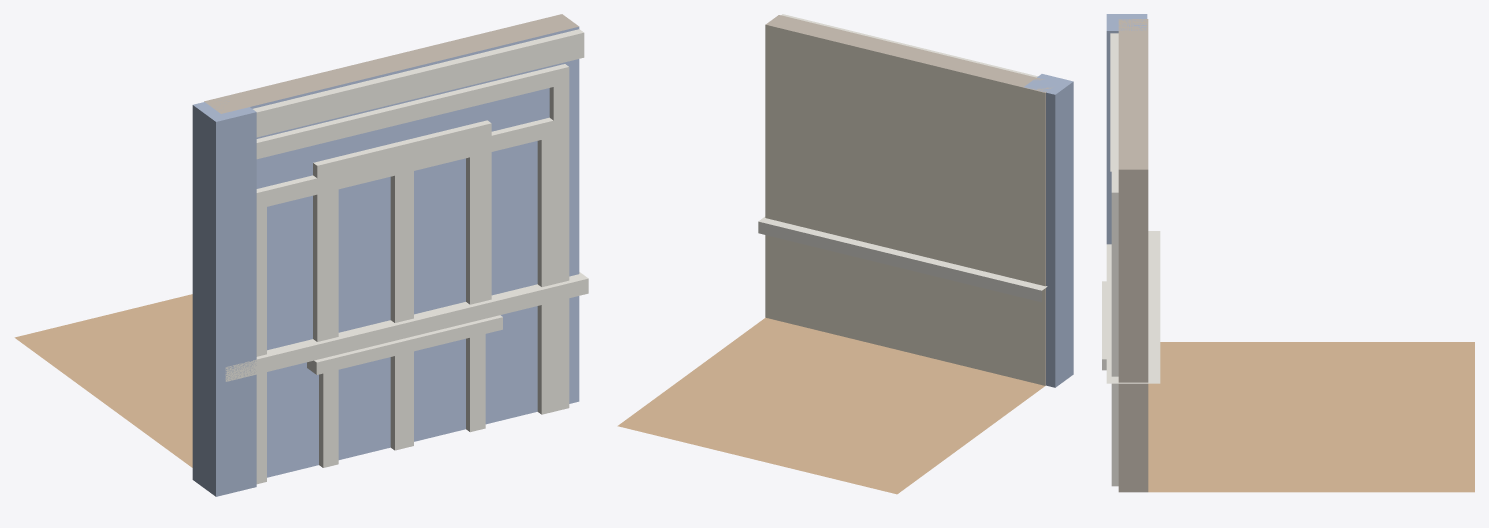
File: toon_city_kit_twins.glb
The picture shows the model from 3 angles, left to right: view 1: azimuth 30°, elevation 25°; view 2: azimuth 150°, elevation 25°; view 3: azimuth 270°, elevation 25°; orthographic projection. The views are drawn at different scales.
Visible parts, largest first — view 1: bluecrete_wallB_solid.001, bluecrete_wallB_window.001, bluecrete_corner.001, bluecrete_wallB_door_L.001, bluecrete_floor.001, bluecrete_wallB_door_R.001, bluecrete_wall_window.001, bluecrete_wallB_wide.001, bluecrete_wallB_door_C.001, bluecrete_wall_solid.001, bluecrete_wall_parapet.001, bluecrete_corner_parapet.001 (+1 smaller); view 2: bluecrete_wallB_solid.001, bluecrete_floor.001, bluecrete_wallB_window.001, bluecrete_wallB_door_R.001, bluecrete_wallB_door_L.001, bluecrete_wall_solid.001, bluecrete_corner.001, bluecrete_wall_window.001, bluecrete_wallB_door_C.001, bluecrete_wall_parapet.001, bluecrete_wallB_wide.001, bluecrete_wall_door_C.001 (+2 smaller); view 3: bluecrete_floor.001, bluecrete_wallB_solid.001, bluecrete_wallB_window.001, bluecrete_wallB_door_R.001, bluecrete_wallB_door_L.001, bluecrete_wallB_wide.001, bluecrete_wall_parapet.001, bluecrete_corner.001, bluecrete_wallB_door_C.001.
Boxes of the visible parts, bbox=[...] form: bluecrete_wallB_solid.001: bbox=[205, 14, 584, 477]; bluecrete_wallB_window.001: bbox=[204, 14, 579, 477]; bluecrete_corner.001: bbox=[192, 96, 256, 496]; bluecrete_wallB_door_L.001: bbox=[205, 15, 579, 484]; bluecrete_floor.001: bbox=[14, 294, 192, 467]; bluecrete_wallB_door_R.001: bbox=[209, 15, 579, 464]; bluecrete_wall_window.001: bbox=[269, 28, 579, 473]; bluecrete_wallB_wide.001: bbox=[226, 15, 578, 411]; bluecrete_wallB_door_C.001: bbox=[208, 18, 579, 475]; bluecrete_wall_solid.001: bbox=[258, 29, 579, 475]; bluecrete_wall_parapet.001: bbox=[225, 272, 588, 473]; bluecrete_corner_parapet.001: bbox=[192, 353, 256, 496]; bluecrete_wallB_solid.001: bbox=[765, 14, 1051, 385]; bluecrete_floor.001: bbox=[617, 317, 1044, 494]; bluecrete_wallB_window.001: bbox=[765, 15, 1047, 384]; bluecrete_wallB_door_R.001: bbox=[765, 17, 1045, 382]; bluecrete_wallB_door_L.001: bbox=[765, 16, 1050, 384]; bluecrete_wall_solid.001: bbox=[765, 27, 1045, 383]; bluecrete_corner.001: bbox=[1024, 74, 1073, 387]; bluecrete_wall_window.001: bbox=[765, 28, 1045, 382]; bluecrete_wallB_door_C.001: bbox=[765, 17, 1045, 383]; bluecrete_wall_parapet.001: bbox=[758, 216, 1047, 377]; bluecrete_wallB_wide.001: bbox=[765, 18, 1045, 384]; bluecrete_wall_door_C.001: bbox=[765, 26, 1045, 378]; bluecrete_floor.001: bbox=[1148, 342, 1474, 492]; bluecrete_wallB_solid.001: bbox=[1110, 19, 1148, 492]; bluecrete_wallB_window.001: bbox=[1102, 19, 1148, 492]; bluecrete_wallB_door_R.001: bbox=[1118, 19, 1148, 491]; bluecrete_wallB_door_L.001: bbox=[1118, 19, 1148, 492]; bluecrete_wallB_wide.001: bbox=[1111, 19, 1148, 487]; bluecrete_wall_parapet.001: bbox=[1106, 231, 1160, 383]; bluecrete_corner.001: bbox=[1106, 14, 1147, 244]; bluecrete_wallB_door_C.001: bbox=[1118, 19, 1148, 490].
Bounding box in the file's own units: 3.12 × 3.2 × 3.14.
